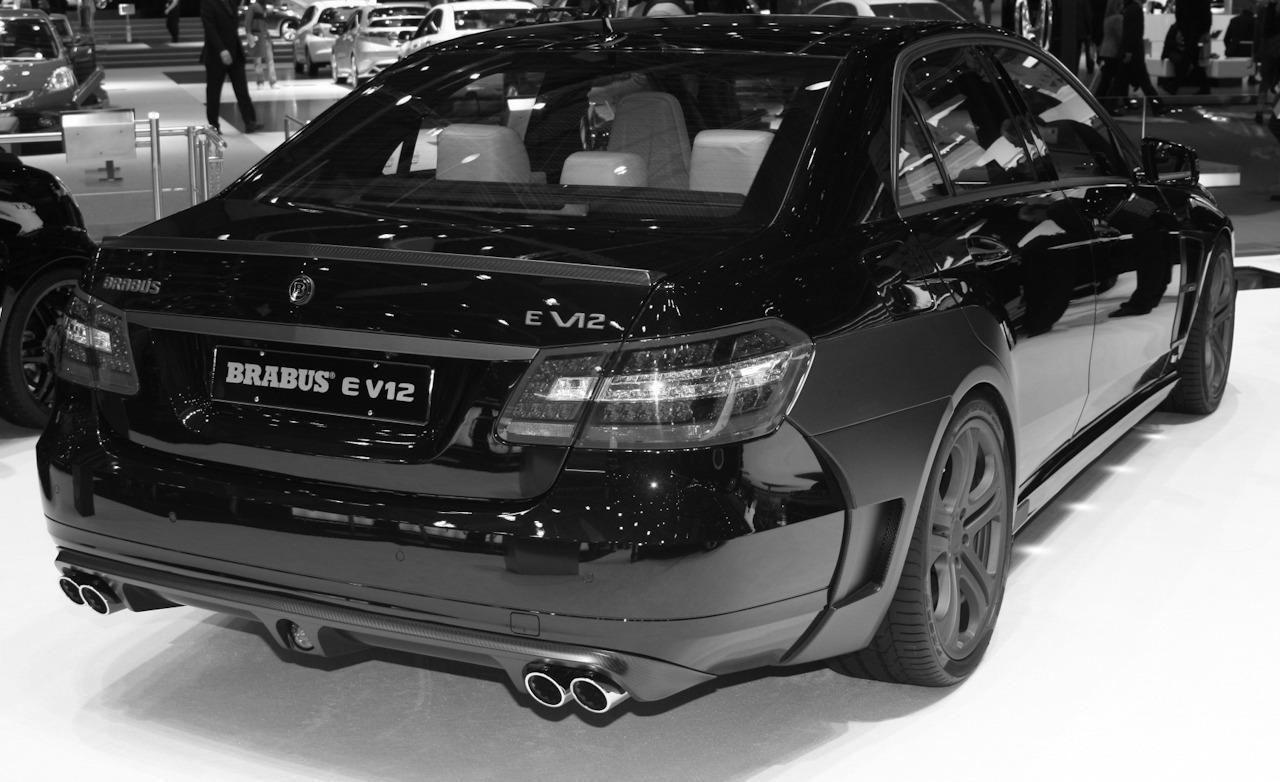car: (33, 25, 1237, 721)
